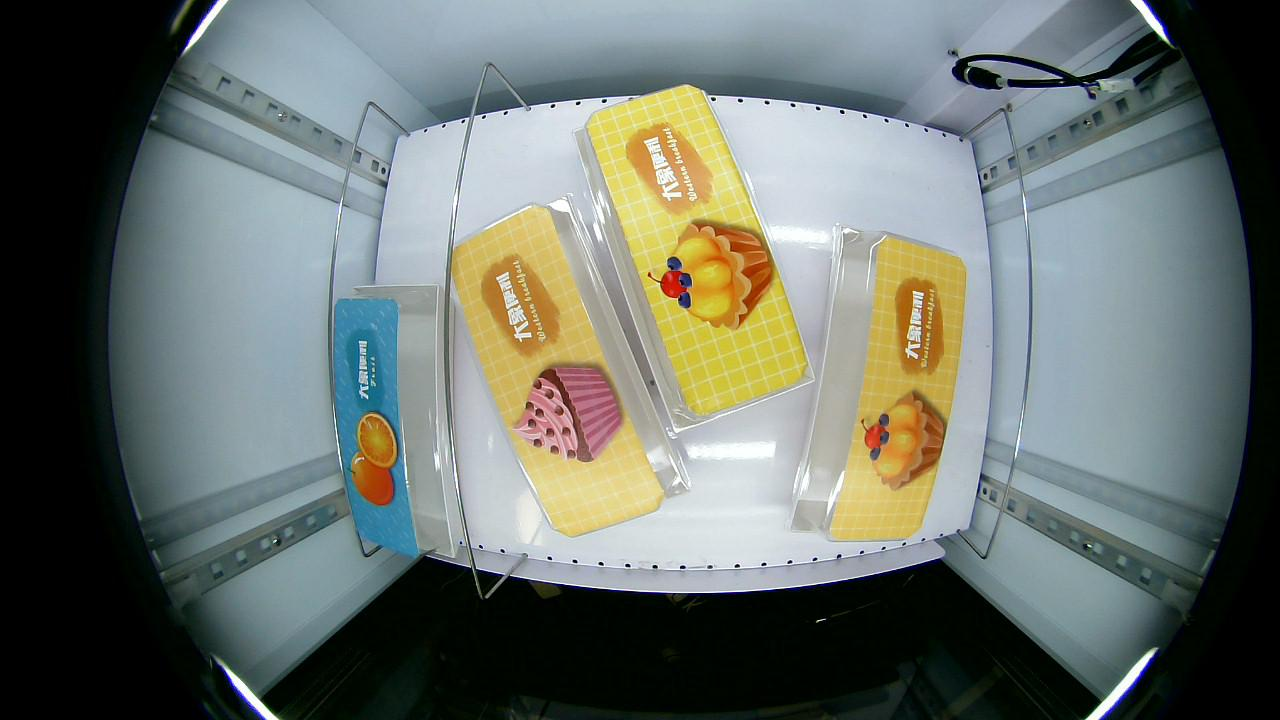goods: (651, 215, 777, 339), (511, 358, 625, 470), (856, 378, 946, 487), (340, 401, 402, 516)
